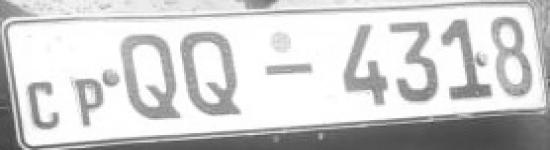-: (263, 59, 319, 80)
1: (440, 12, 494, 103)
3: (388, 19, 442, 110)
4: (330, 18, 390, 110)
8: (490, 10, 536, 100)
C: (24, 76, 65, 134)
P: (68, 73, 106, 130)
Q: (115, 31, 182, 125), (181, 27, 247, 120)
